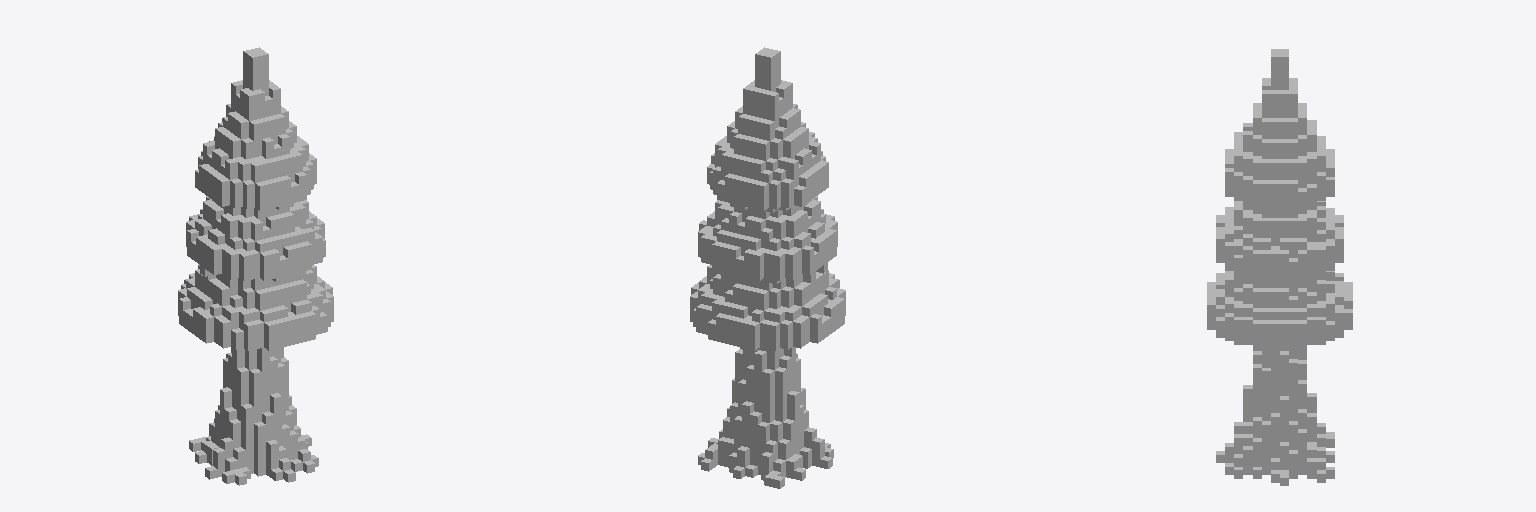
File: Tree_V1_Snow.obj
3 renders of one model, left to right at view 1: azimuth 30°, elevation 25°; view 2: azimuth 150°, elevation 25°; view 3: azimuth 270°, elevation 25°, orthographic.
Parts seen in each view (by area): view 1: Tree_V1_Snow; view 2: Tree_V1_Snow; view 3: Tree_V1_Snow.
Part boxes in pixels (bbox=[...]): Tree_V1_Snow: bbox=[178, 47, 333, 485]; Tree_V1_Snow: bbox=[690, 47, 845, 488]; Tree_V1_Snow: bbox=[1207, 49, 1352, 485].
Size of the model in its own units: 16 by 49 by 16.